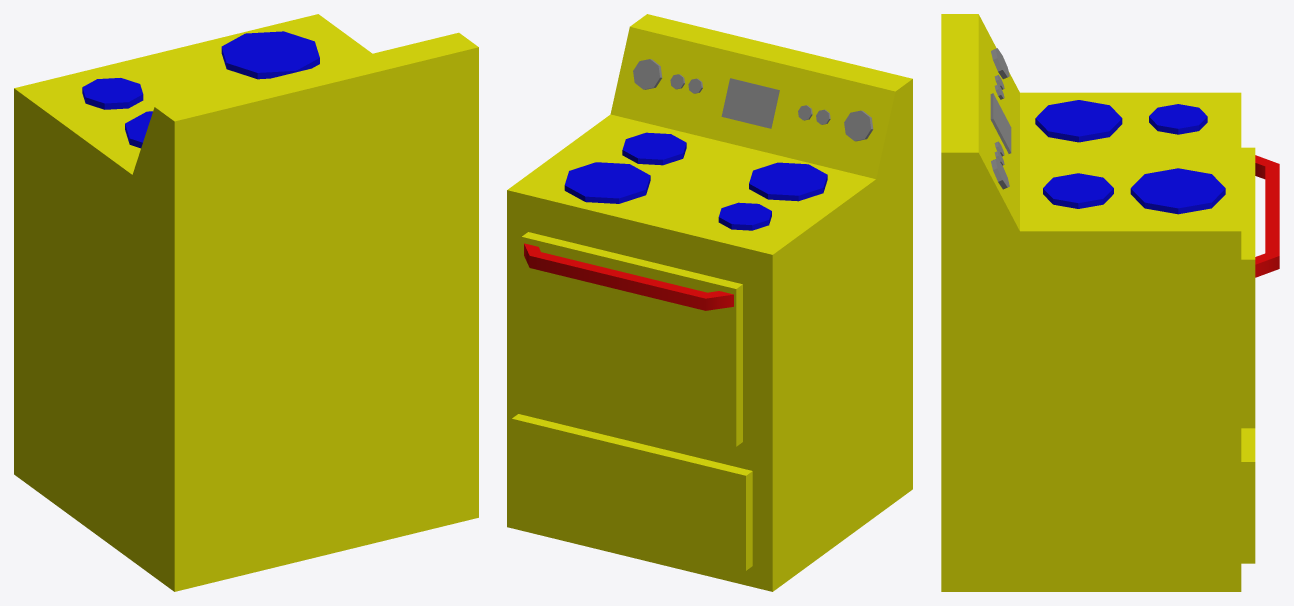
The model's file is Big_Oven.fbx.
The picture shows the model from 3 angles, left to right: view 1: azimuth 30°, elevation 25°; view 2: azimuth 150°, elevation 25°; view 3: azimuth 270°, elevation 25°; orthographic projection. The views are drawn at different scales.
Parts seen in each view (by area): view 1: pCube160; view 2: pCube160; view 3: pCube160.
Part boxes in pixels (x1,y1,x2,y2): pCube160: [14, 14, 478, 591]; pCube160: [507, 14, 912, 591]; pCube160: [941, 14, 1279, 591].
Size of the model in its own units: 121 by 179 by 125.
